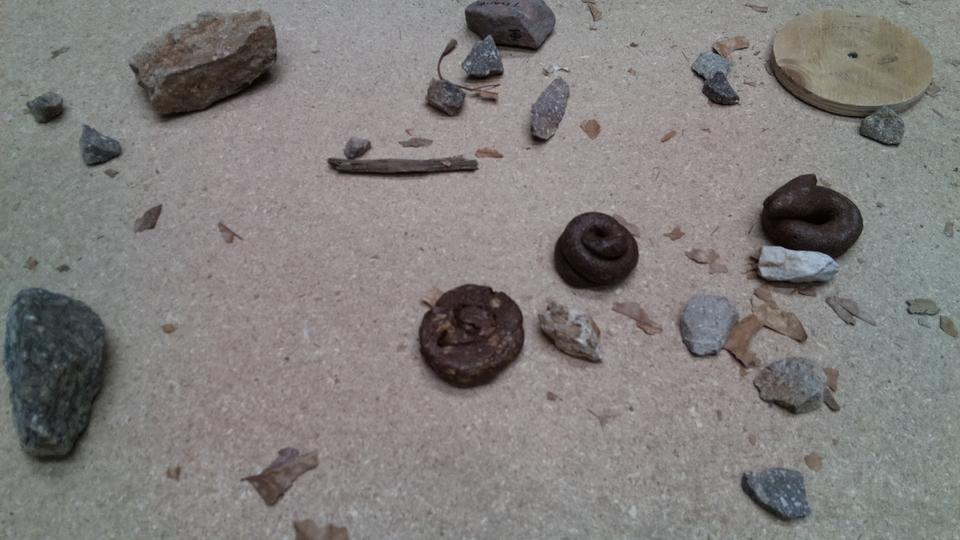poop: (416, 280, 526, 391), (758, 171, 866, 259), (553, 209, 640, 293)
